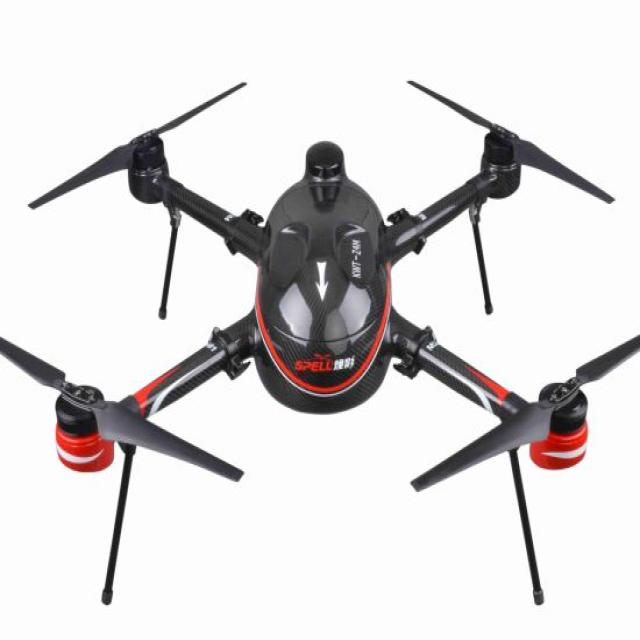drone: (0, 59, 640, 522)
